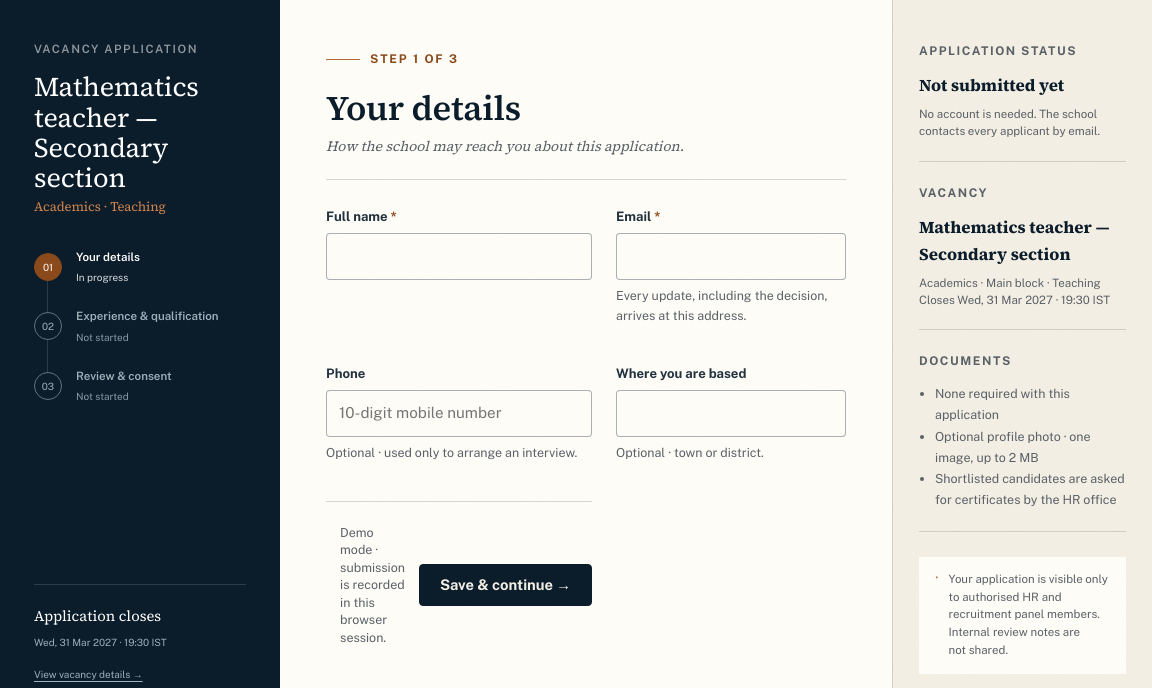
Scenario: JobForm public surface › validates required fields before advancing
Click the button "Save & continue →". click: (506, 585)
box: [419,564,592,606]
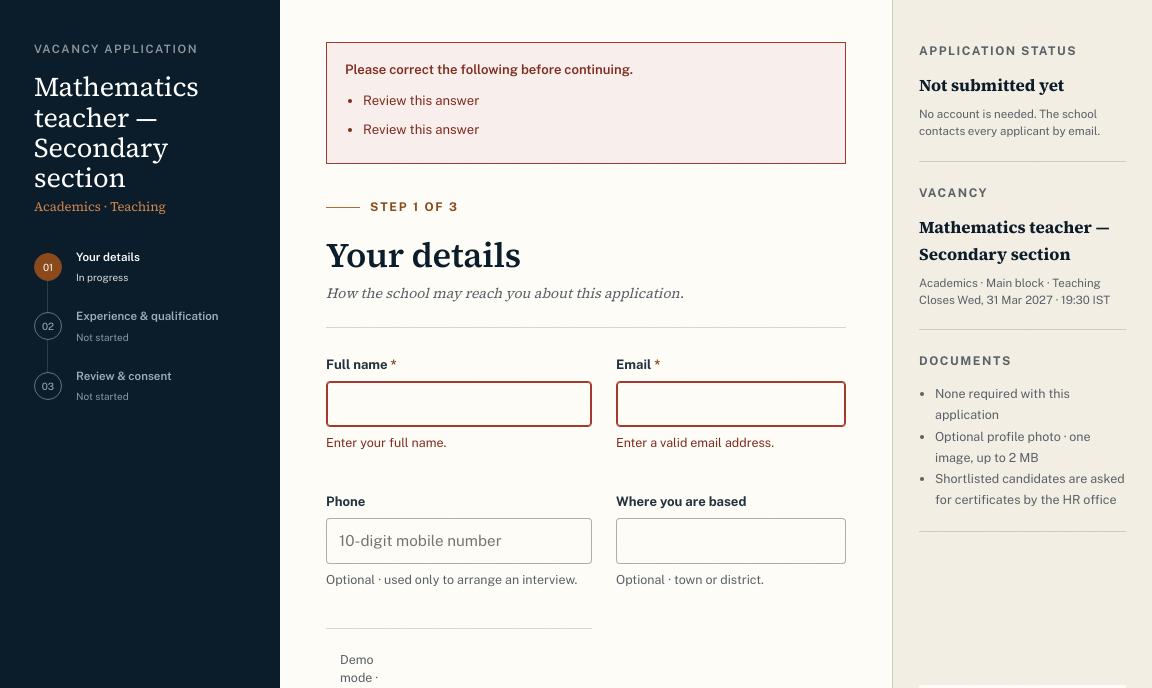
Result: the text "Please correct the following before continuing." is shown at [345,62,633,77]
Result: the text "Enter your full name." is shown at [326,435,446,450]
Result: the text "Enter a valid email address." is shown at [616,435,774,450]
